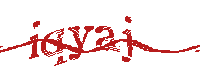a: (93, 23, 119, 55)
i: (29, 17, 40, 59)
j: (121, 16, 135, 64)
q: (40, 27, 67, 70)
y: (68, 23, 94, 64)
